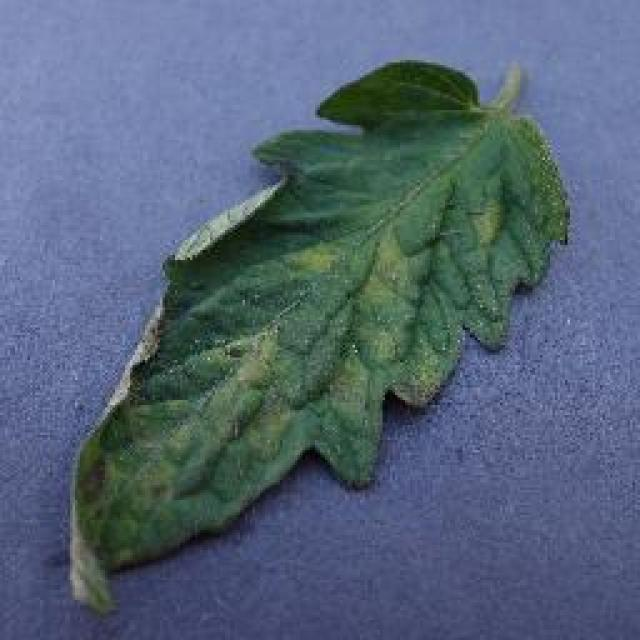leaf mold: (69, 63, 568, 617)
